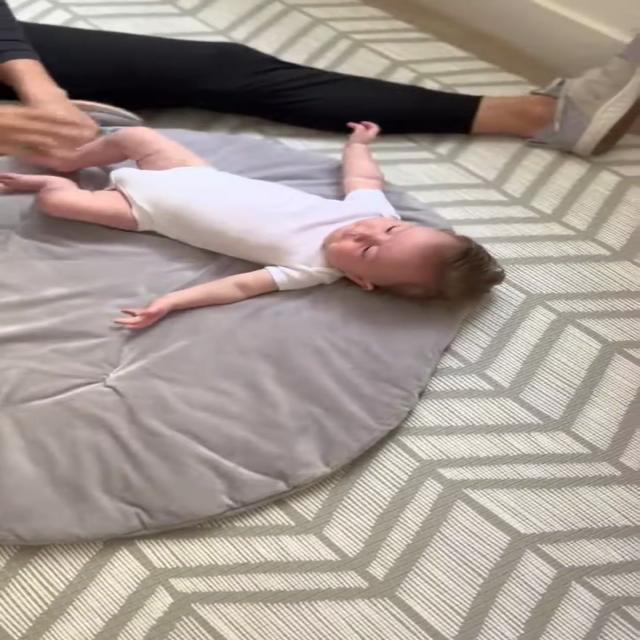baby: (0, 111, 498, 341)
